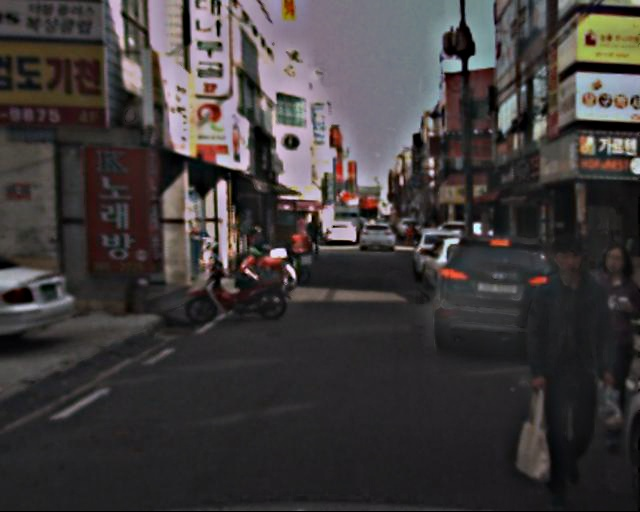person: (521, 241, 611, 498), (582, 245, 640, 448), (301, 211, 324, 259), (403, 223, 419, 247)
